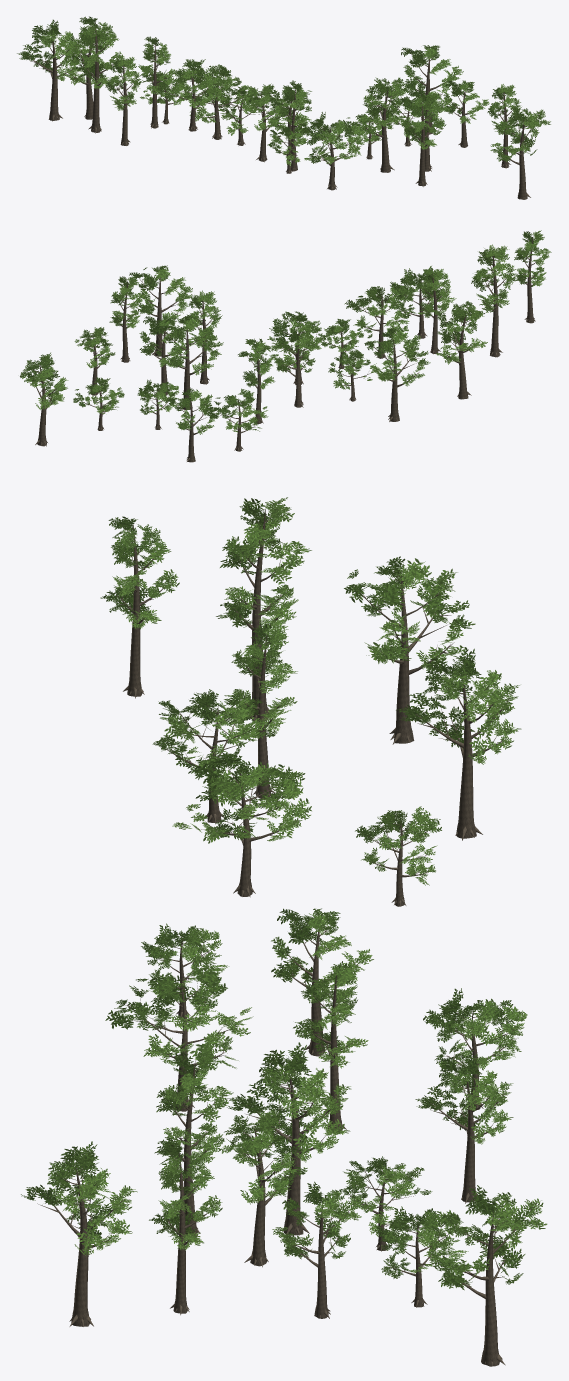
Rendered from Canopy_12_15.glb.
3 views of the same model, one above another, from view 1: azimuth 30°, elevation 25°; view 2: azimuth 150°, elevation 25°; view 3: azimuth 270°, elevation 25° (orthographic). The views are drawn at different scales.
Visible parts, largest first — view 1: Canopy_12_15; view 2: Canopy_12_15; view 3: Canopy_12_15.
Part boxes in pixels (x1=…): Canopy_12_15: x1=17, y1=16, x2=550, y2=199; Canopy_12_15: x1=20, y1=230, x2=551, y2=462; Canopy_12_15: x1=21, y1=497, x2=547, y2=1366.
Size of the model in its own units: 103 by 54.52 by 54.21.
Materials: 2 (2 with a texture image).
